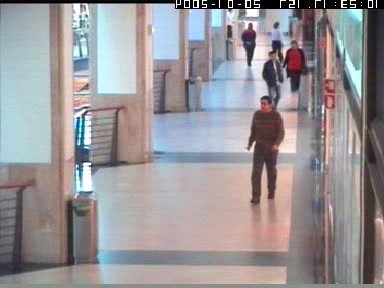person: (246, 95, 284, 203), (261, 49, 283, 115), (283, 40, 307, 92), (241, 22, 256, 67), (270, 21, 284, 68), (224, 8, 235, 39), (315, 103, 321, 119)
